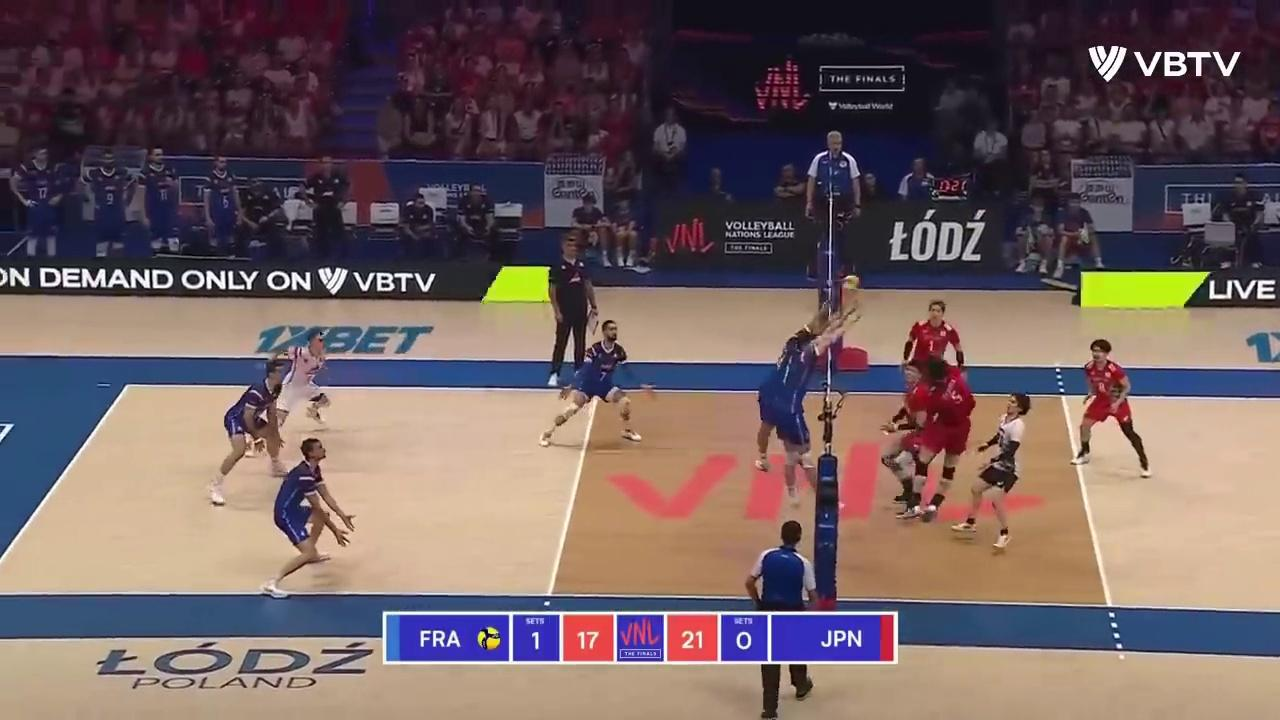ball: (844, 275, 859, 293)
